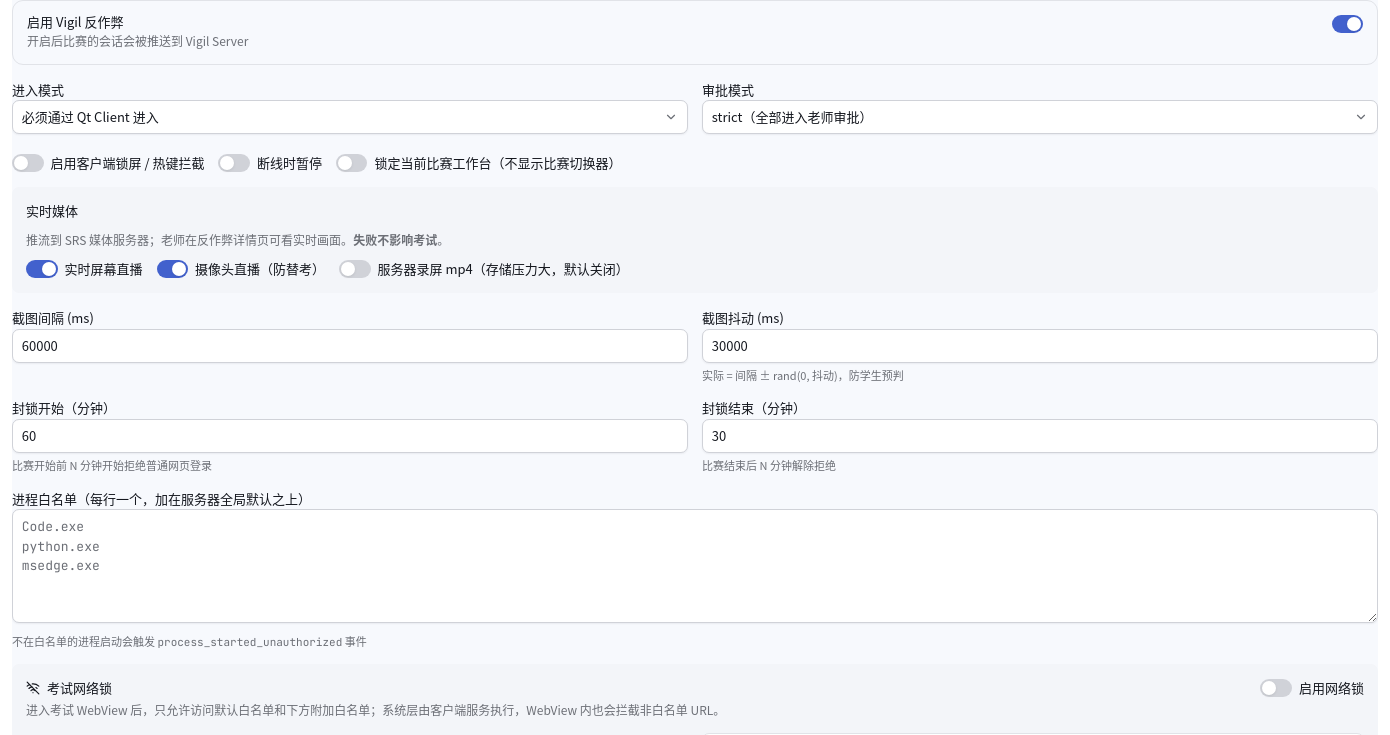
it: vigil entry section › turns a client-required contest back to a normal page and keeps Vigil on
Expected: the text "启用 Vigil 反作弊" is shown, [27,12,124,31]
Click the switch named "vigilEnabled": point(75, 22) [12,0,1378,64]
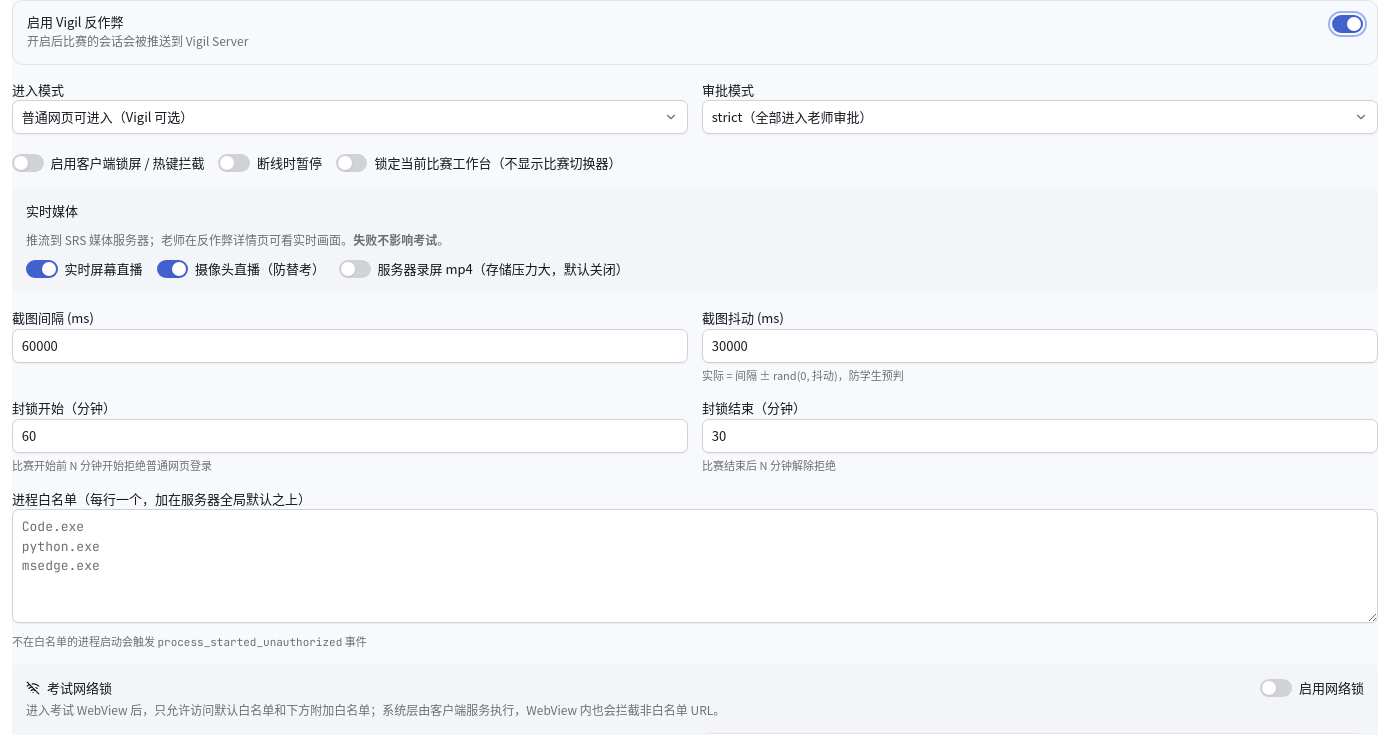
Result: the text "普通网页可进入（Vigil 可选）" is shown at [22,107,193,127]
